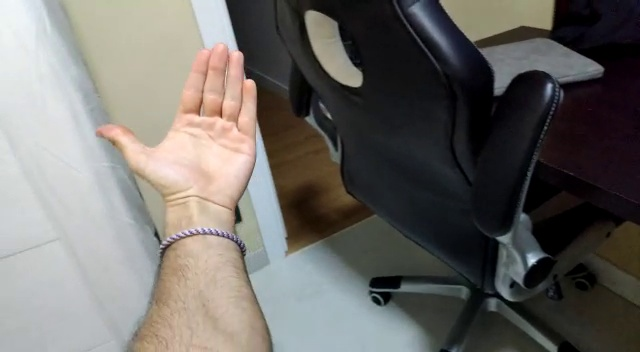Palm: (92, 39, 265, 216)
